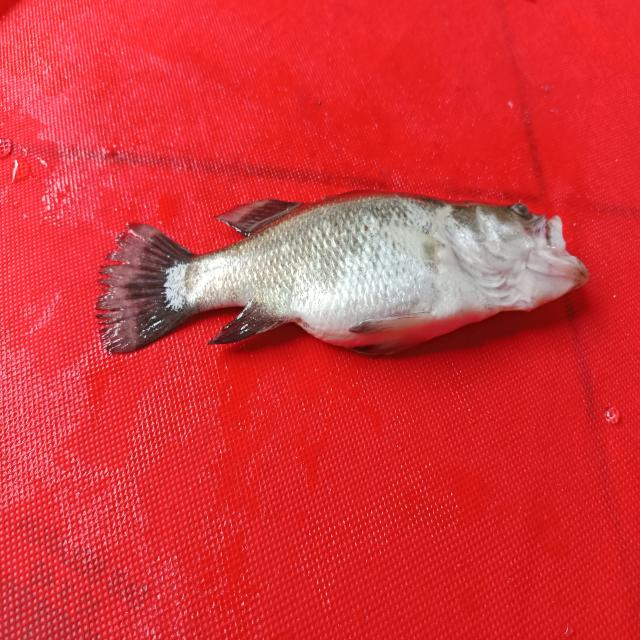ikan: (88, 179, 600, 369)
